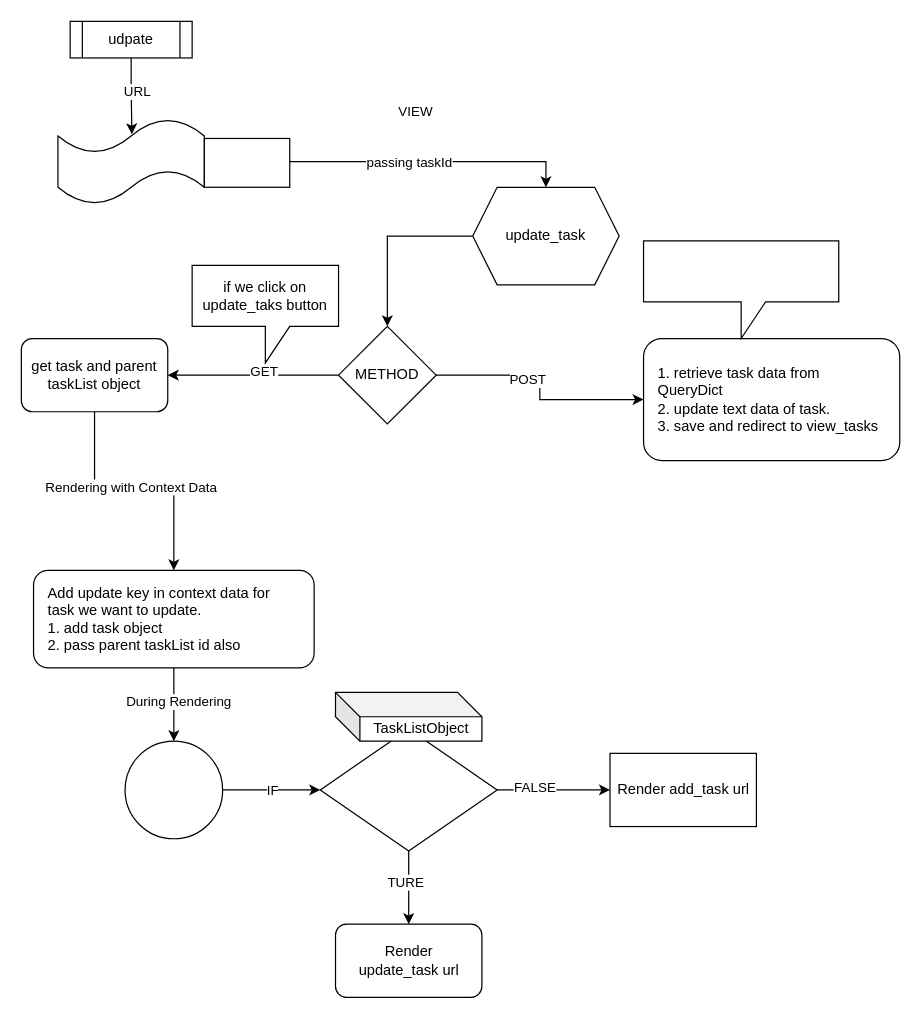
This 921x1019 diagram has some shape labels left out. Each missing label, with the centre of its shape:
"if we update_task using input with some text" belongs at (x=740, y=289).
"Iterate over TaksLists" belongs at (x=173, y=789).
"taksId" belongs at (x=246, y=162).
"TaskList object match with update id" belongs at (x=408, y=789).
"url - update_task" belongs at (x=130, y=161).
